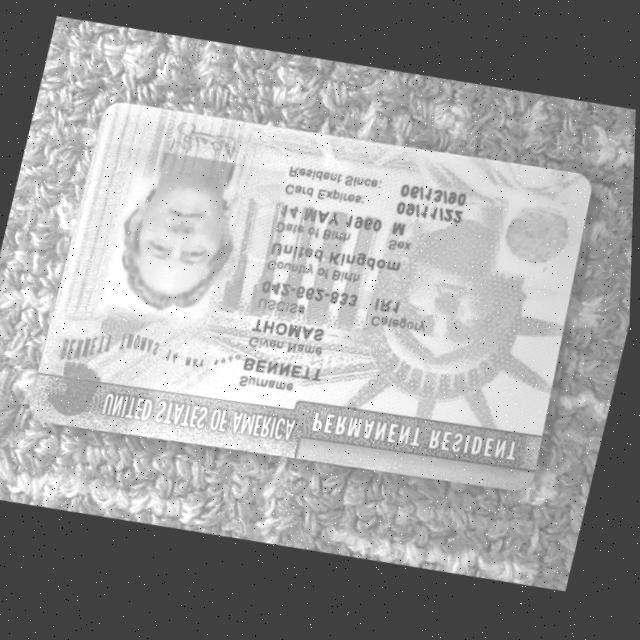card: (30, 104, 589, 489)
